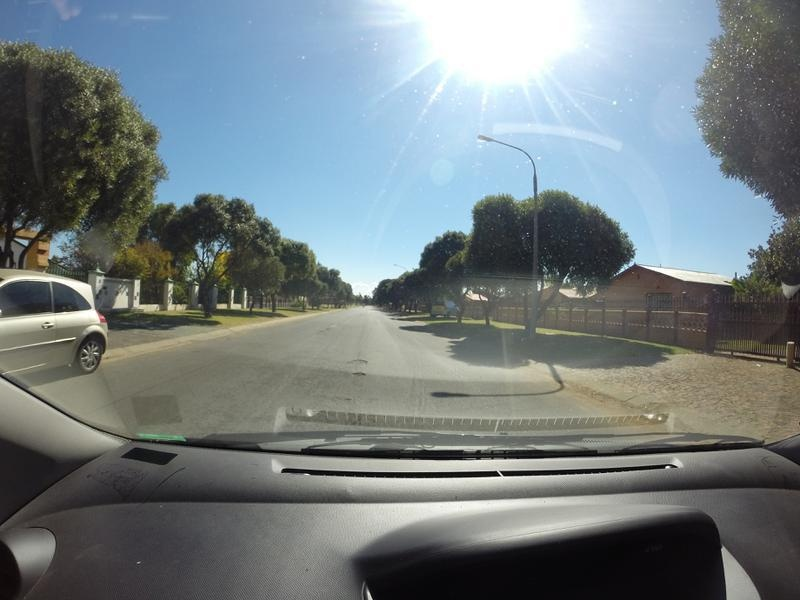pothole: (340, 356, 367, 364), (351, 368, 365, 382)
